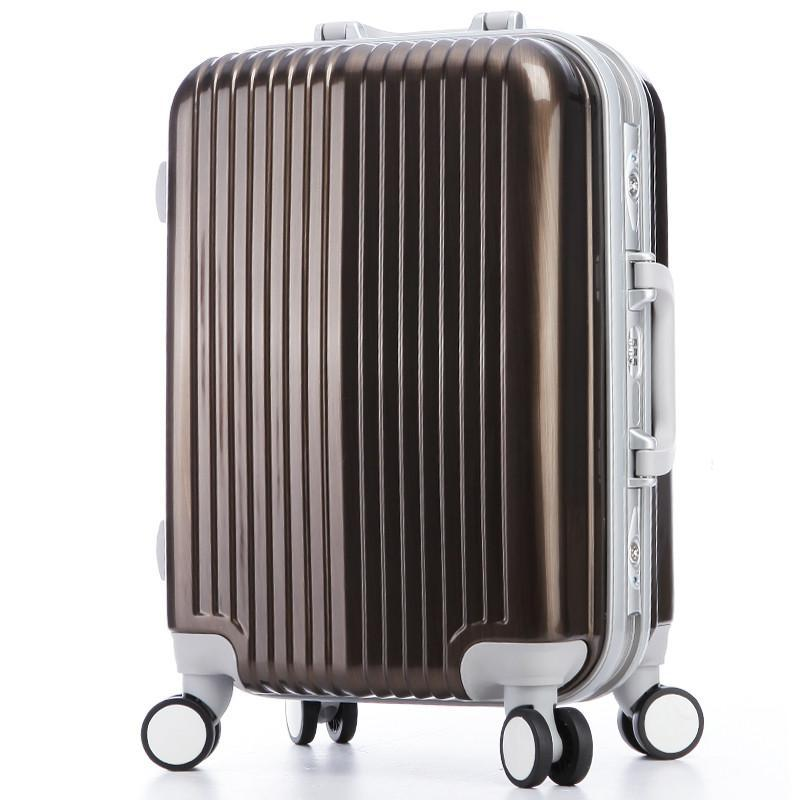luggage: (138, 6, 705, 788)
